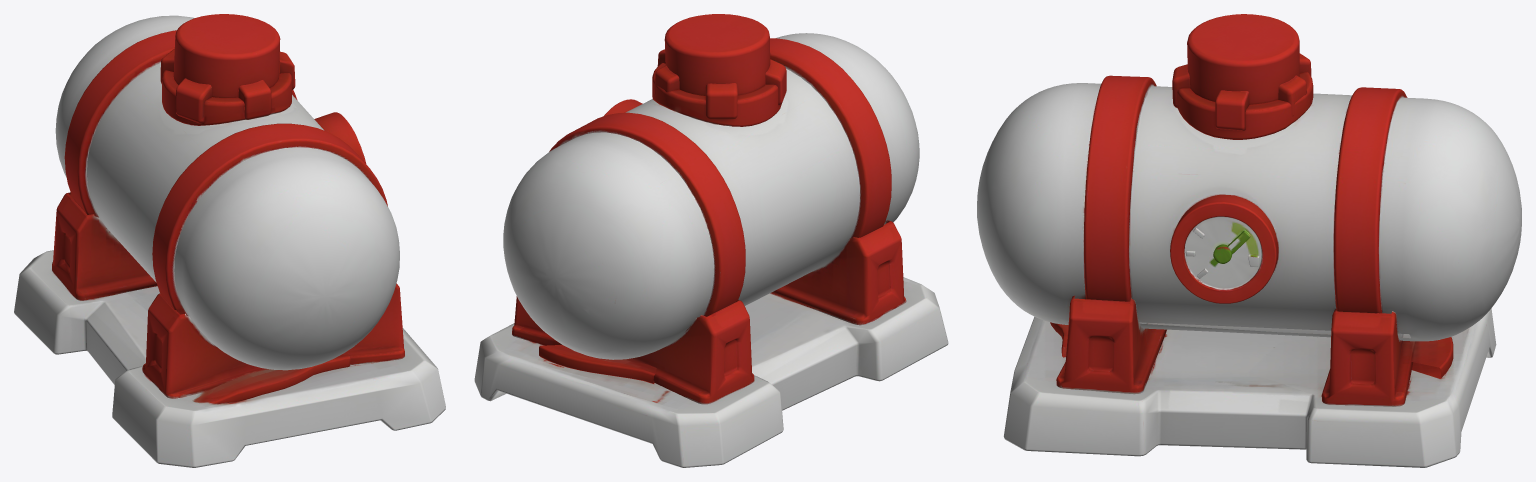
The model's file is Red White Fuel Tank.glb.
The picture shows the model from 3 angles, left to right: view 1: azimuth 30°, elevation 25°; view 2: azimuth 150°, elevation 25°; view 3: azimuth 270°, elevation 25°; orthographic projection. The views are drawn at different scales.
Parts seen in each view (by area): view 1: tripo_node_d5cf4fbe; view 2: tripo_node_d5cf4fbe; view 3: tripo_node_d5cf4fbe.
Part boxes in pixels (bbox=[...]): tripo_node_d5cf4fbe: bbox=[14, 14, 445, 467]; tripo_node_d5cf4fbe: bbox=[474, 14, 948, 467]; tripo_node_d5cf4fbe: bbox=[977, 14, 1521, 467].
Bounding box in the file's own units: 0.7017 × 0.73 × 0.9995.
1 material, 1 textured.
